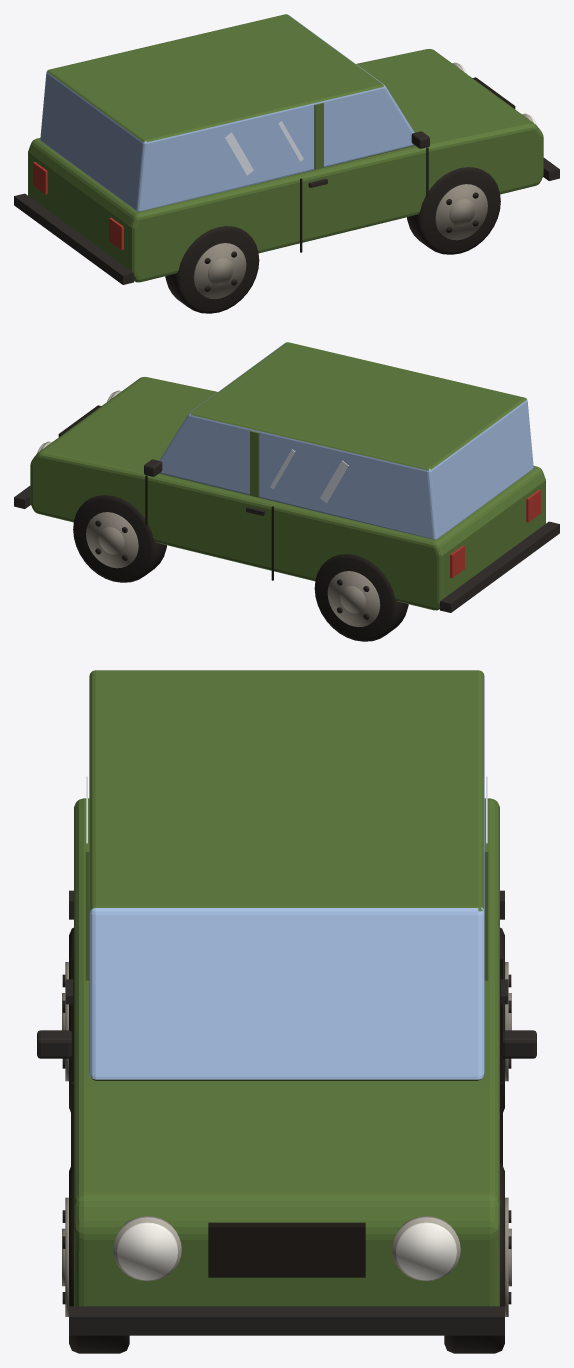
The model's file is VH_Niva.glb.
3 views of the same model, one above another, from view 1: azimuth 30°, elevation 25°; view 2: azimuth 150°, elevation 25°; view 3: azimuth 270°, elevation 25° (orthographic). The views are drawn at different scales.
Parts seen in each view (by area): view 1: body; view 2: body; view 3: body.
Part boxes in pixels (<box>): body: <box>14,14,559,313</box>; body: <box>14,342,559,641</box>; body: <box>37,670,536,1353</box>.
Bounding box in the file's own units: 3.98 × 1.62 × 1.97.
